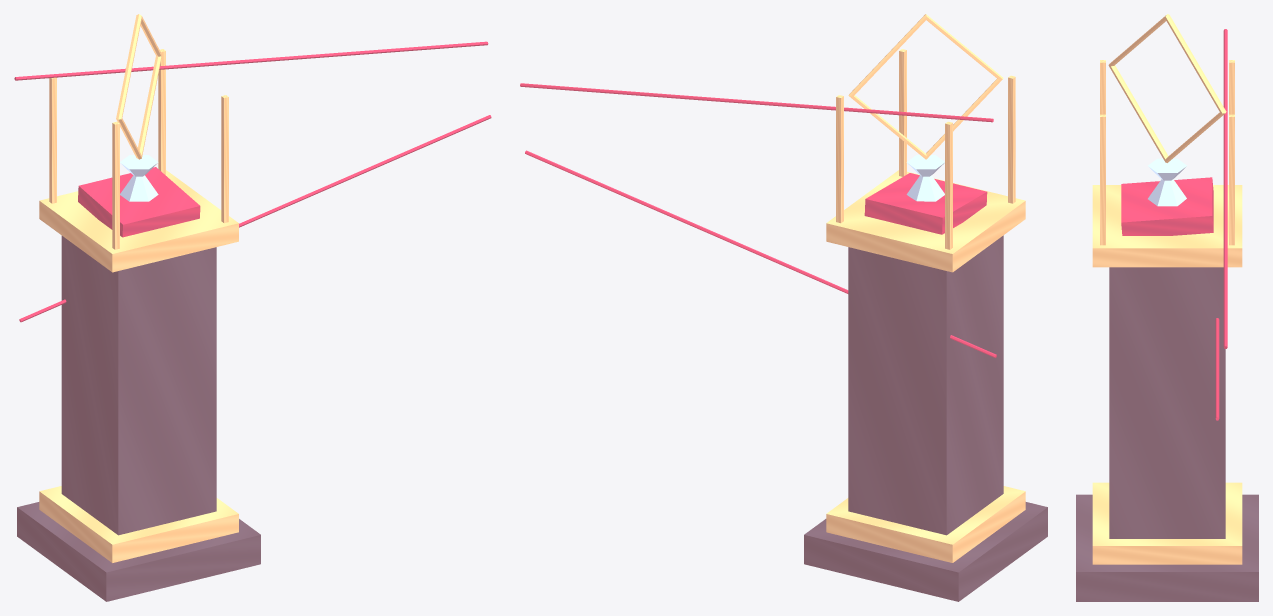
File: velvet-display-pedestal.glb
3 renders of one model, left to right at view 1: azimuth 30°, elevation 25°; view 2: azimuth 150°, elevation 25°; view 3: azimuth 270°, elevation 25°, orthographic. The views are drawn at different scales.
Visible parts, largest first — view 1: TS_StageProp_velvet-display-pedestal; view 2: TS_StageProp_velvet-display-pedestal; view 3: TS_StageProp_velvet-display-pedestal.
Boxes of the visible parts, bbox=[...] form: TS_StageProp_velvet-display-pedestal: bbox=[14, 14, 491, 601]; TS_StageProp_velvet-display-pedestal: bbox=[520, 14, 1047, 601]; TS_StageProp_velvet-display-pedestal: bbox=[1076, 14, 1258, 601].
Bounding box in the file's own units: 1.34 × 1.46 × 0.44.
1 material, 1 textured.
